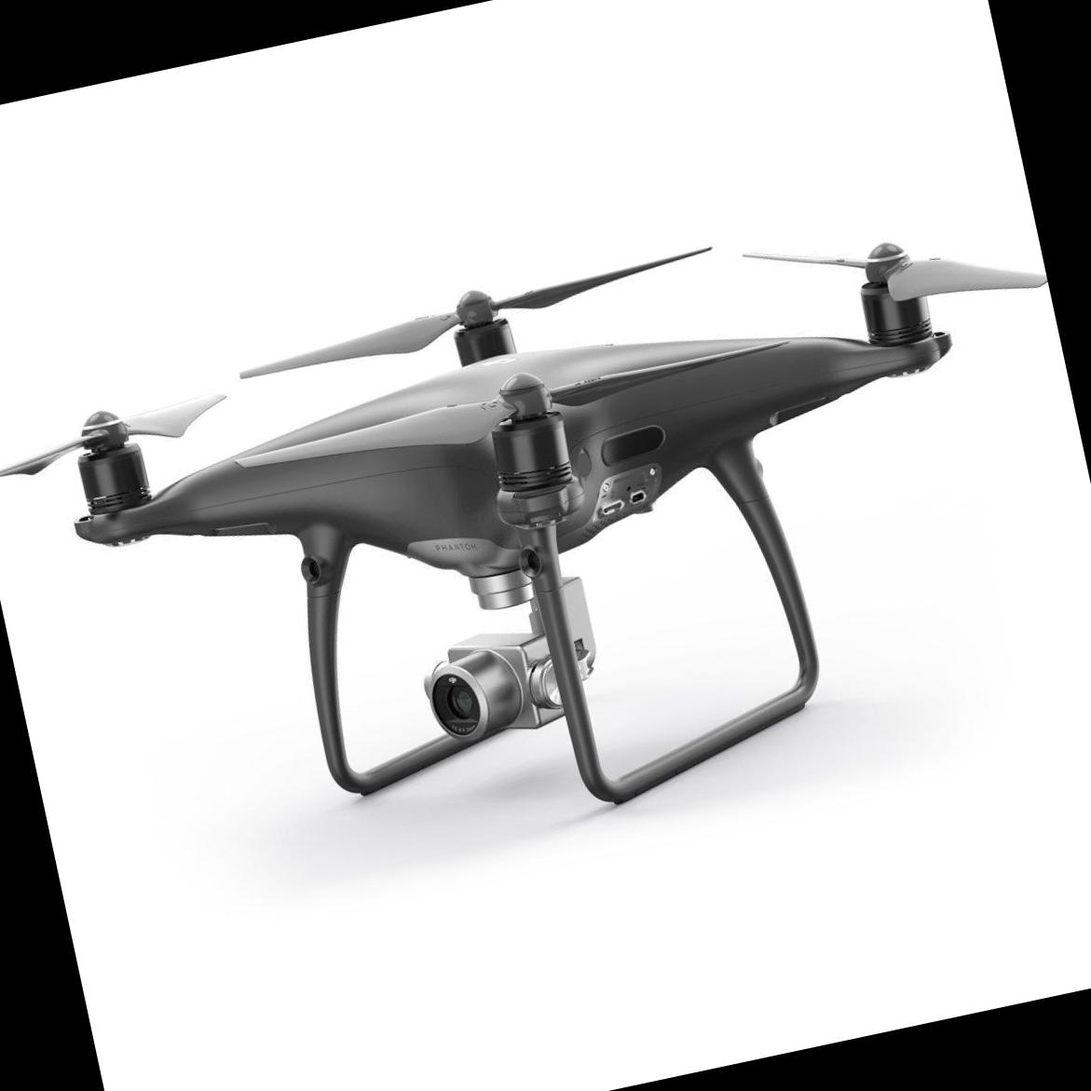drone: (0, 143, 1091, 824)
